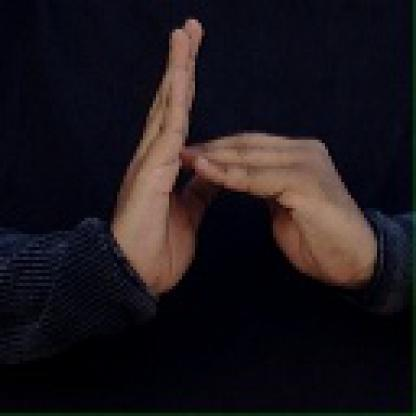Z: (111, 10, 368, 291)
